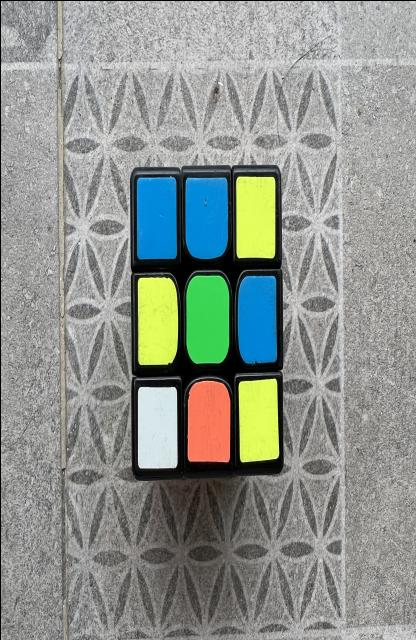Blue: (236, 275, 276, 363), (184, 177, 227, 258), (136, 175, 176, 258)
Green: (185, 273, 228, 363)
Orange: (187, 380, 229, 462)
White: (136, 385, 176, 468)
Yellow: (136, 277, 177, 365), (237, 378, 279, 462), (235, 175, 275, 257)
